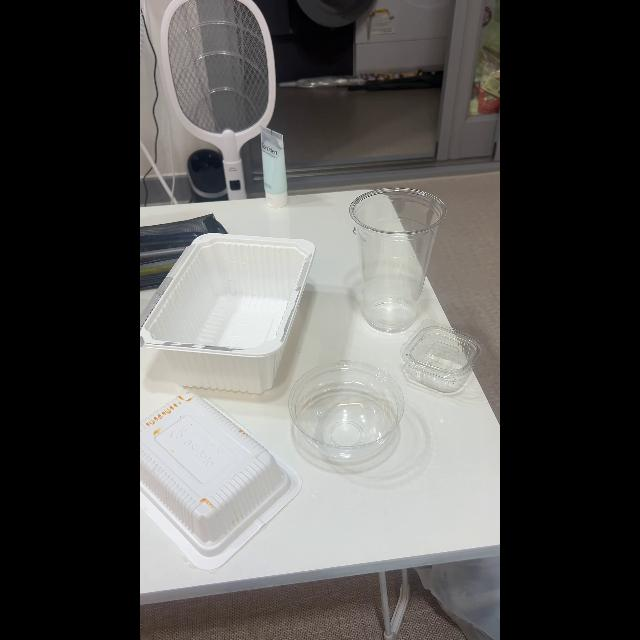clean: (140, 233, 314, 393), (294, 358, 406, 469), (352, 195, 422, 329), (408, 334, 480, 396)
dirty: (142, 400, 278, 540)
